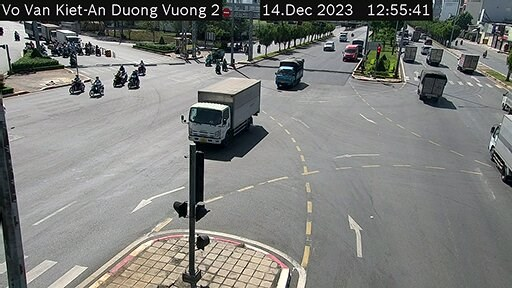car: (343, 41, 358, 65), (321, 40, 337, 60)
motorbike: (83, 74, 104, 98), (109, 64, 125, 88), (128, 67, 142, 91), (68, 74, 84, 94), (134, 59, 149, 77)
truck: (171, 73, 267, 160), (482, 107, 512, 182), (270, 54, 304, 95), (417, 68, 445, 102), (455, 49, 482, 76), (425, 44, 447, 71), (408, 43, 418, 70)
